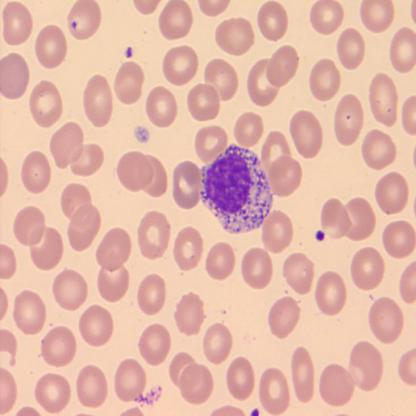Myelocyte: (200, 142, 274, 233)
